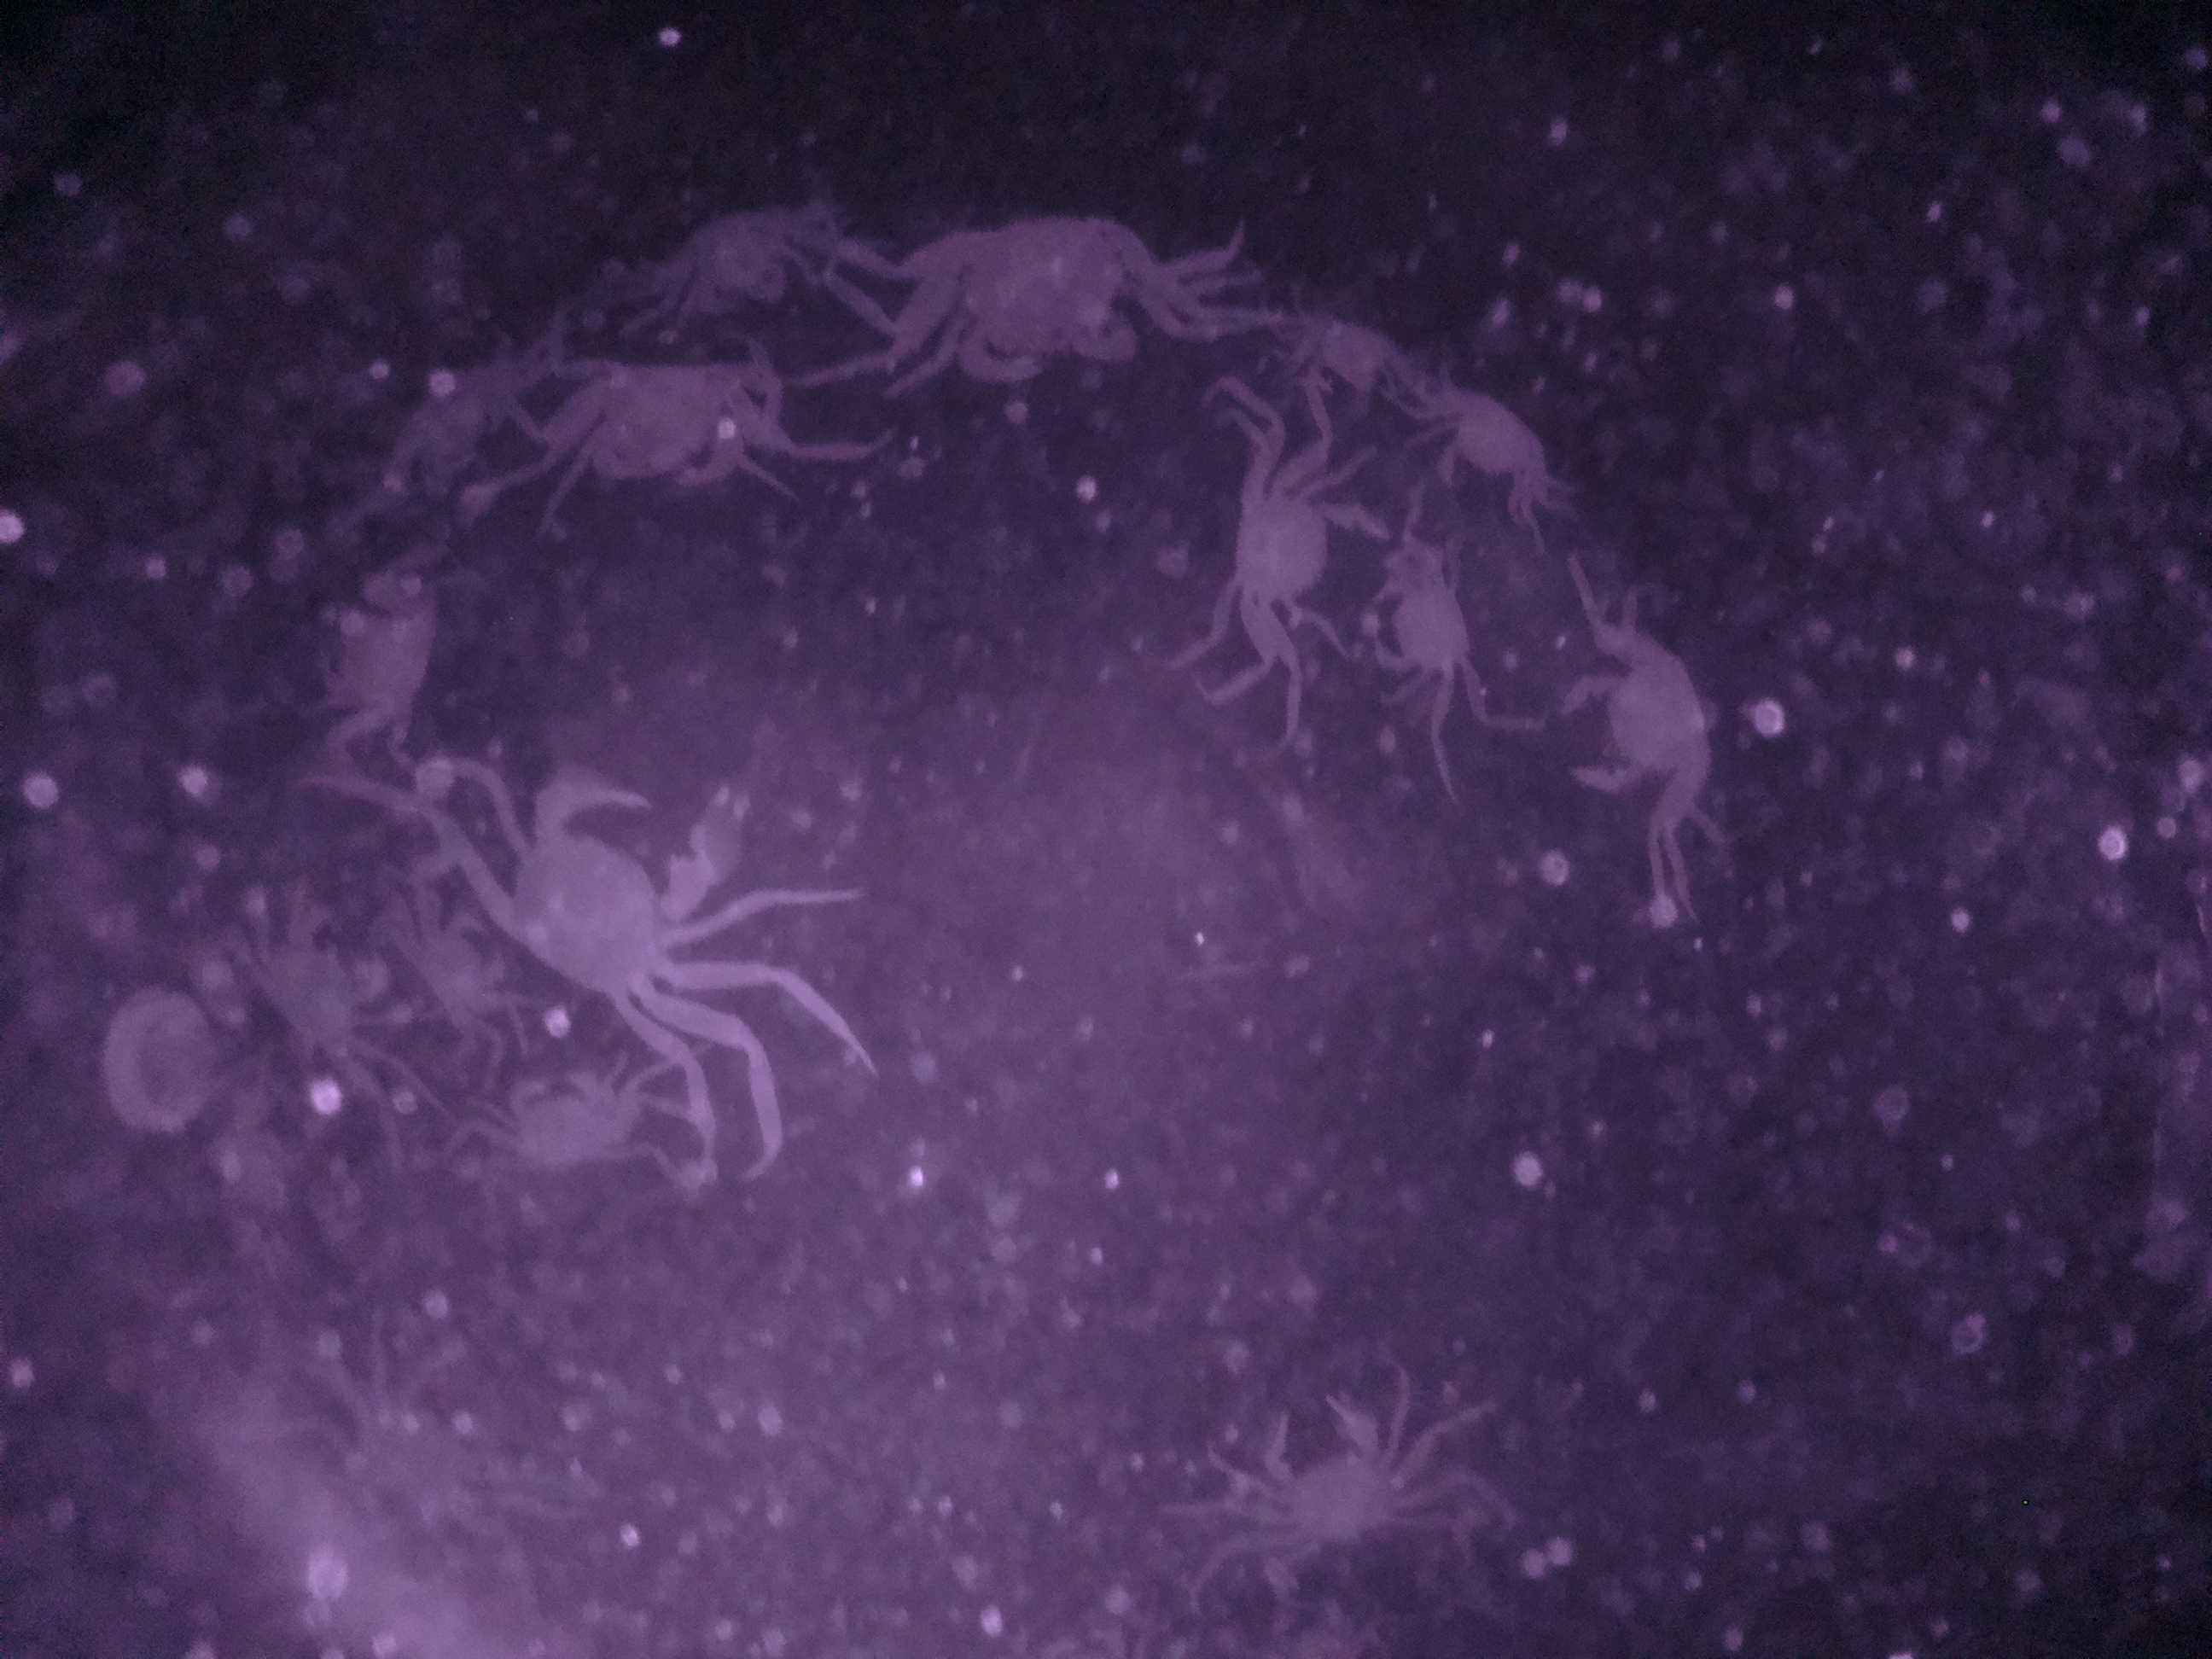Crab: (475, 751, 766, 1056), (899, 204, 1191, 397), (1231, 1392, 1433, 1586), (1554, 627, 1731, 823), (1216, 451, 1371, 645), (479, 1054, 664, 1194), (1369, 537, 1498, 688)
